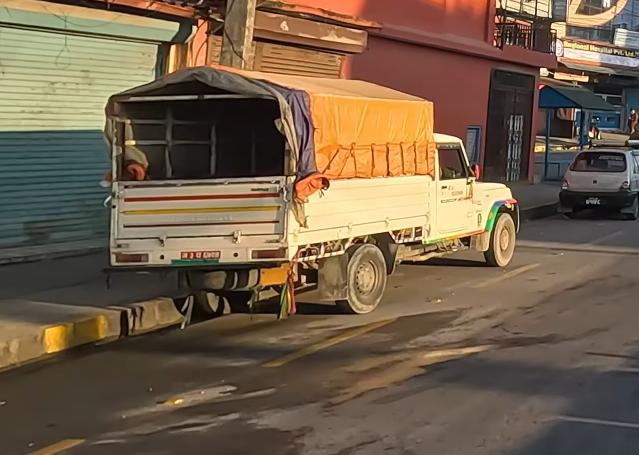taxi: (555, 143, 639, 228)
transport_vehicle: (112, 71, 533, 325)
